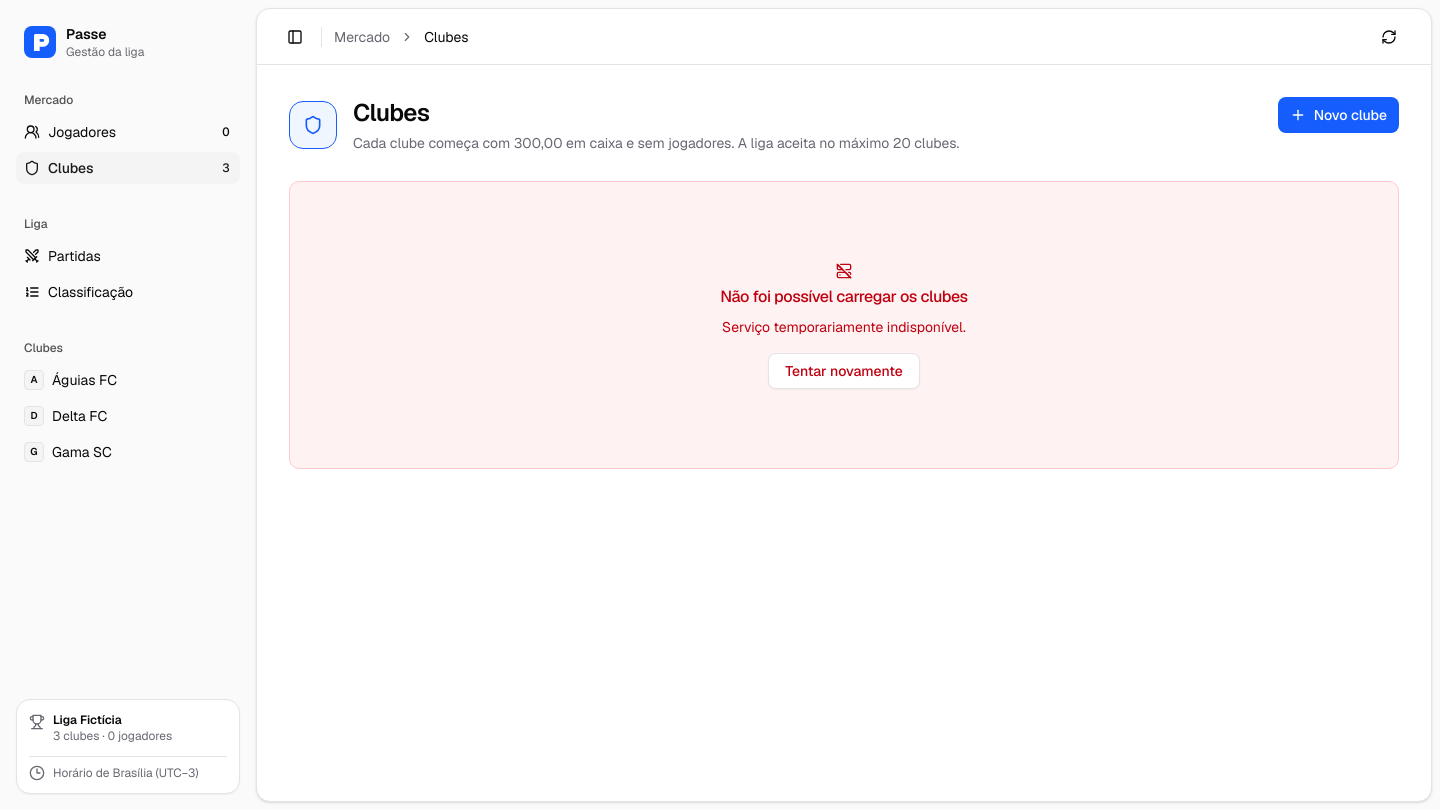
Scenario: F3 club listing states › shows the API error and retries the summaries request successfully
Check: the text "Serviço temporariamente indisponível." is shown, box [722, 317, 966, 337]
Click the button "Tentar novamente" at (844, 371), box [768, 353, 920, 389]
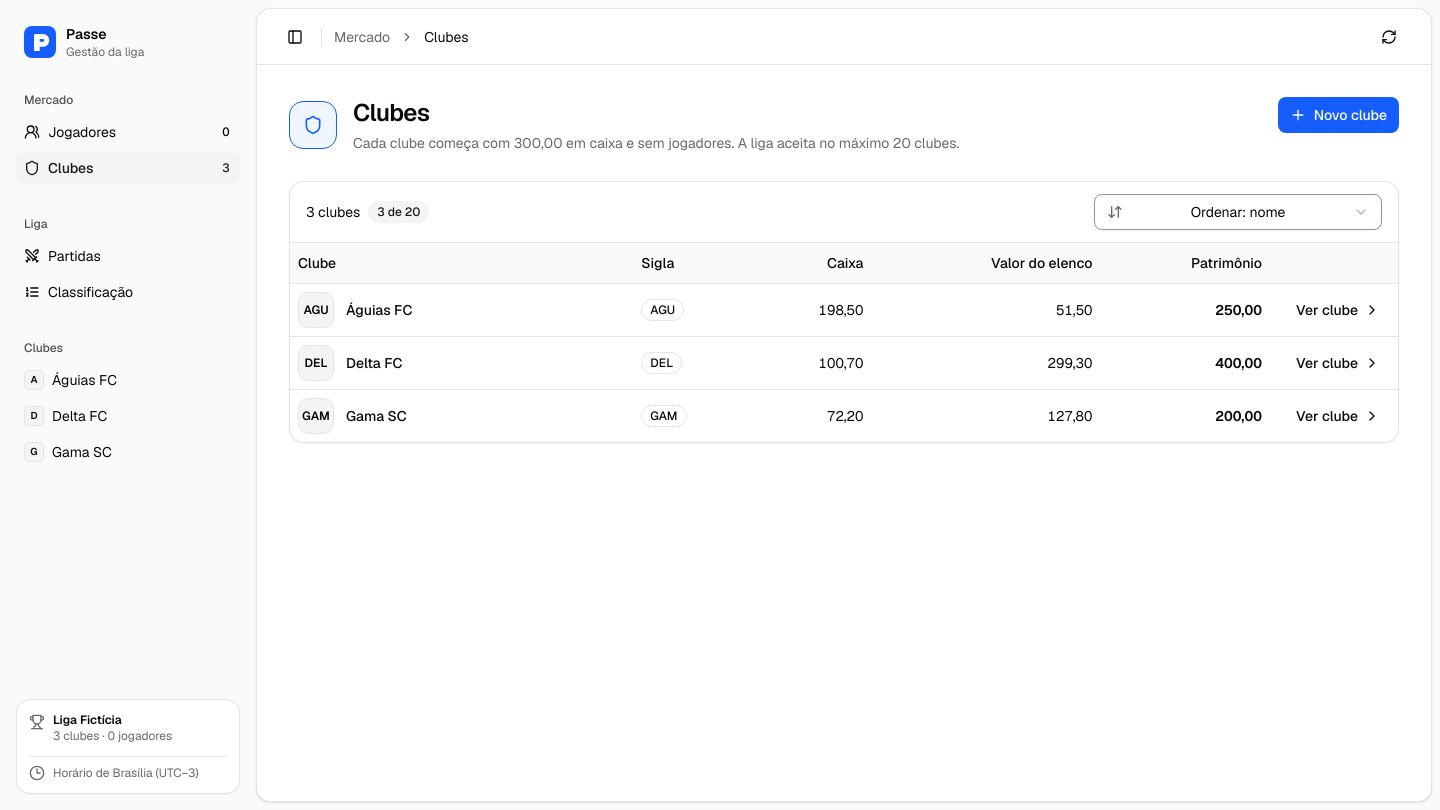
Check: the table named "Clubes" is shown, box [290, 243, 1398, 442]
Check: the row "DEL Delta FC DEL 100,70 299,30 400,00 Ver clube" is shown, box [290, 336, 1398, 389]
